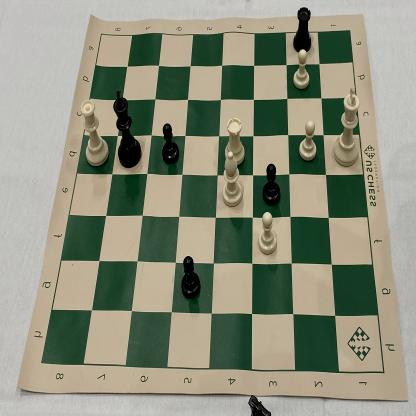black-king: (110, 86, 144, 171)
black-pawn: (177, 252, 204, 301), (260, 160, 283, 209), (160, 118, 182, 167)
black-rook: (290, 4, 316, 56)
white-bishop: (218, 150, 245, 212)
white-king: (330, 81, 363, 169)
white-pawn: (254, 209, 281, 259), (295, 118, 320, 167), (289, 49, 313, 94)
white-queen: (78, 94, 110, 169)
white-rook: (222, 110, 247, 168)
